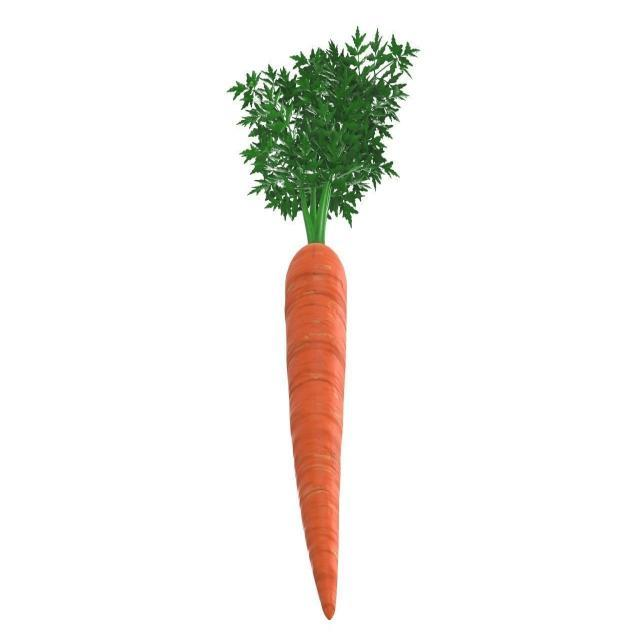carrot: (283, 241, 351, 622)
